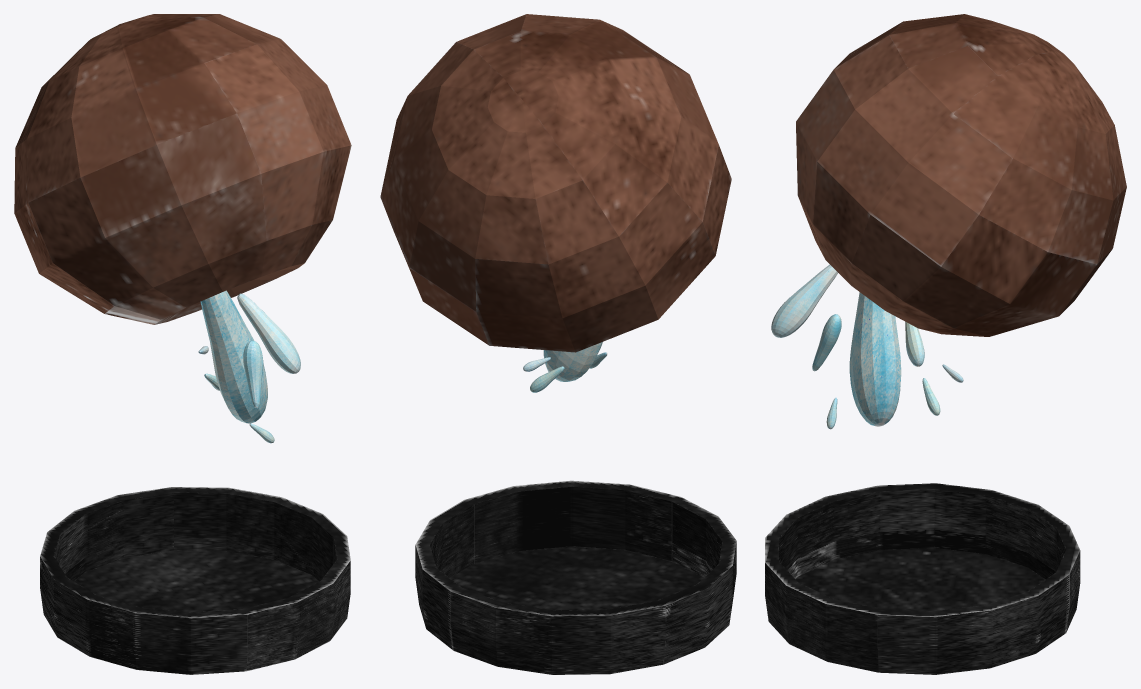
The model's file is Arroz coco paso 2 .fbx.
3 views of the same model, side by side, from view 1: azimuth 30°, elevation 25°; view 2: azimuth 150°, elevation 25°; view 3: azimuth 270°, elevation 25° (orthographic). The views are drawn at different scales.
Parts seen in each view (by area): view 1: coco, plato, gota 2, gota 1, gota 3; view 2: coco, plato, gota 2; view 3: coco, plato, gota 2, gota 1, gota 3, gota 4.
Part boxes in pixels (box(x1,y1,x2,y2)): coco: box(14, 14, 351, 324); plato: box(40, 487, 350, 674); gota 2: box(200, 290, 267, 423); gota 1: box(237, 293, 300, 373); gota 3: box(243, 340, 263, 408); coco: box(380, 14, 731, 352); plato: box(415, 480, 736, 674); gota 2: box(543, 342, 602, 381); coco: box(796, 14, 1126, 336); plato: box(765, 483, 1080, 674); gota 2: box(849, 292, 901, 426); gota 1: box(771, 264, 837, 337); gota 3: box(812, 314, 841, 371); gota 4: box(905, 322, 924, 366).
Size of the model in its own units: 241 by 443 by 250.
Materials: 1 (1 with a texture image).
